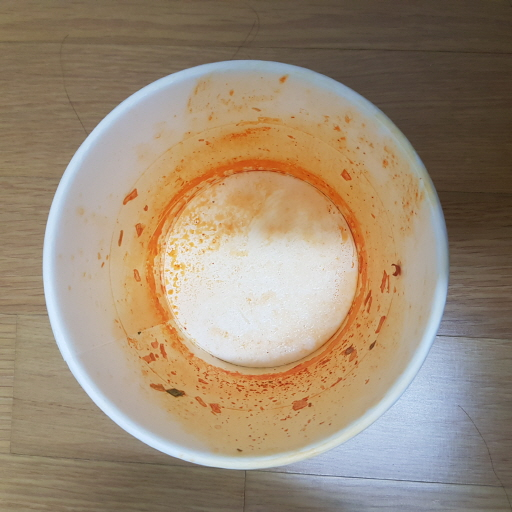Paper_1: (45, 60, 452, 467)
